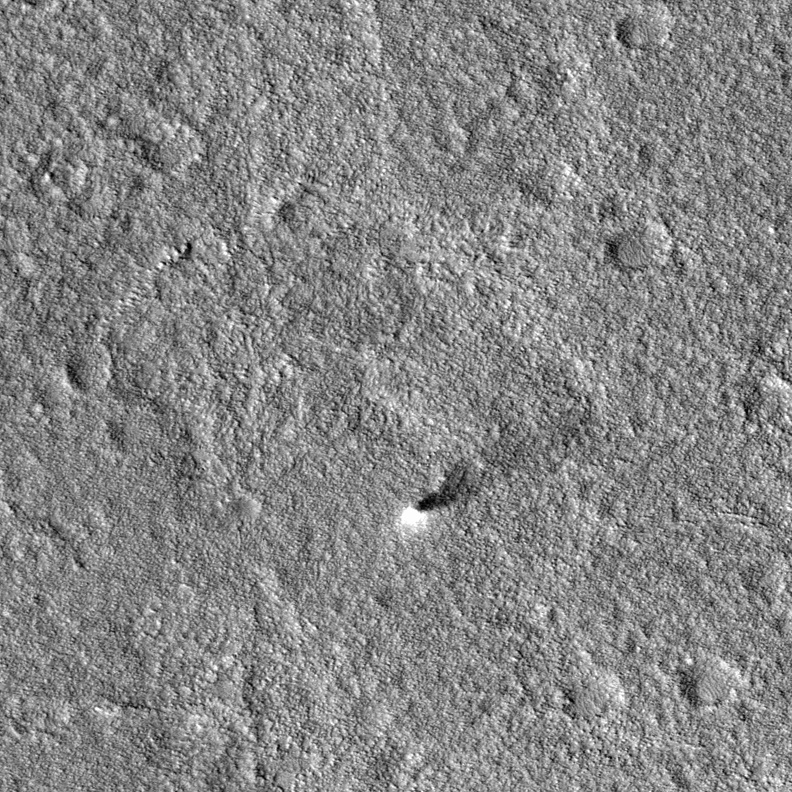dust_devil: (396, 457, 499, 534)
